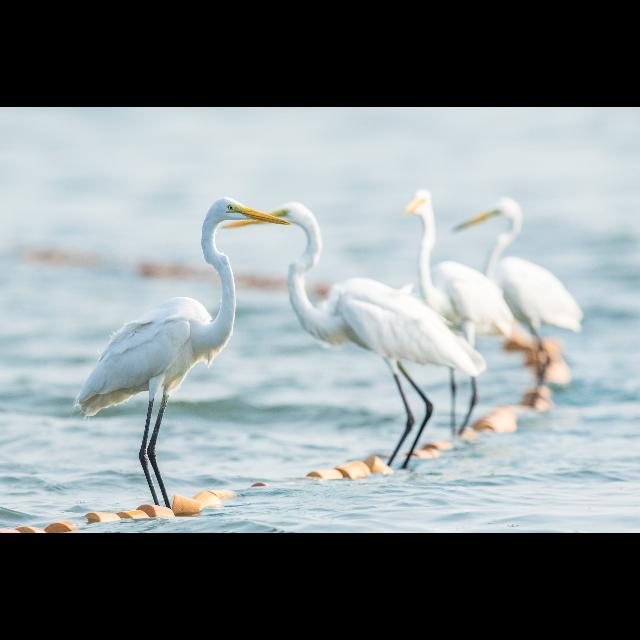egret: (74, 197, 290, 516), (291, 196, 483, 467)
